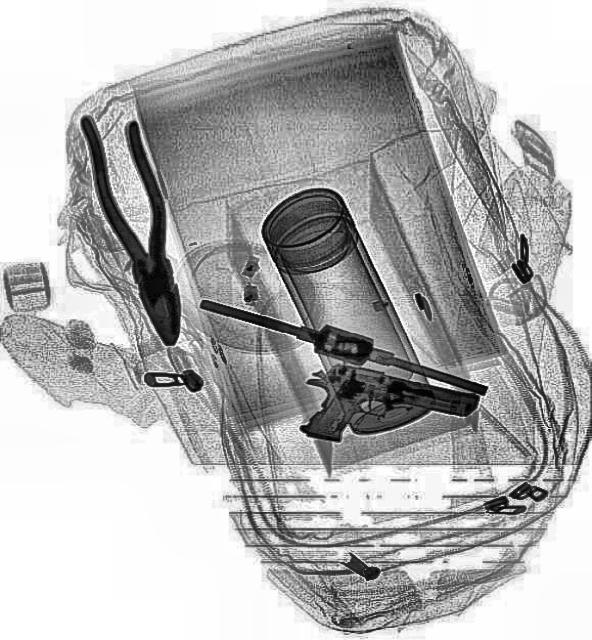Gun: (291, 354, 480, 472)
Pliers: (78, 100, 199, 354)
